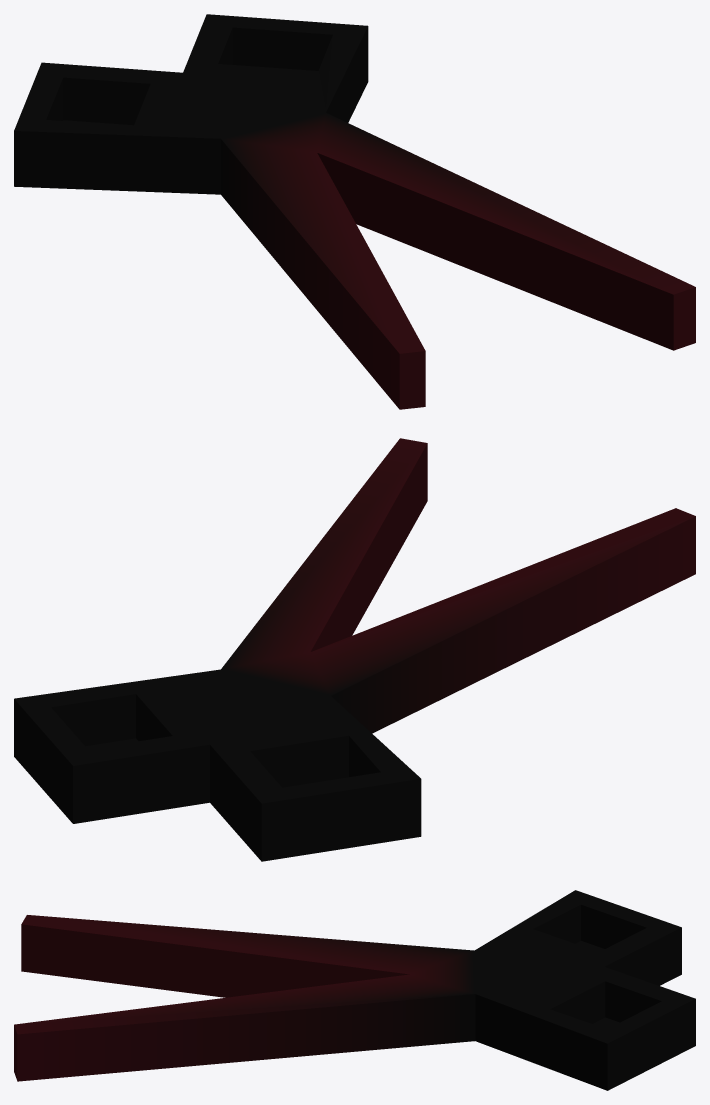
The model's file is Scissor.fbx.
3 views of the same model, one above another, from view 1: azimuth 30°, elevation 25°; view 2: azimuth 150°, elevation 25°; view 3: azimuth 270°, elevation 25° (orthographic). The views are drawn at different scales.
Parts seen in each view (by area): view 1: Scissor; view 2: Scissor; view 3: Scissor.
Boxes of the visible parts, left/top/right/bottom form: Scissor: left=14, top=14, right=695, bottom=409; Scissor: left=14, top=438, right=695, bottom=861; Scissor: left=14, top=890, right=695, bottom=1090.
Bounding box in the file's own units: 0.4435 × 0.0637 × 0.8316.
